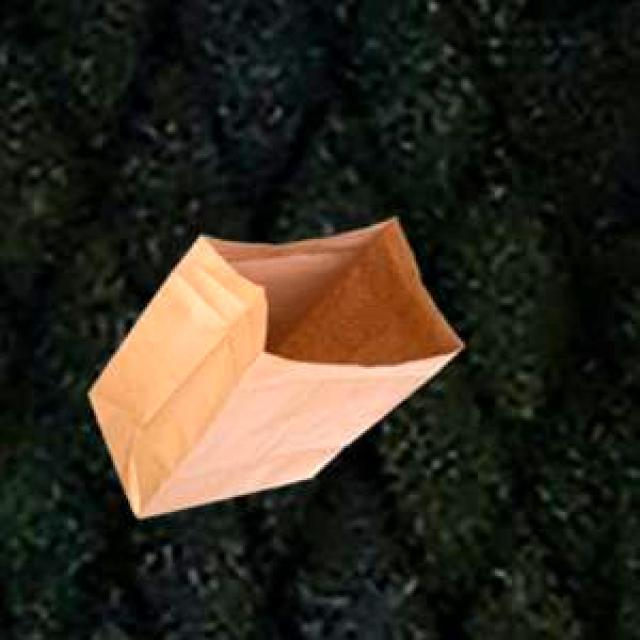Paper_Bag: (86, 214, 460, 516)
